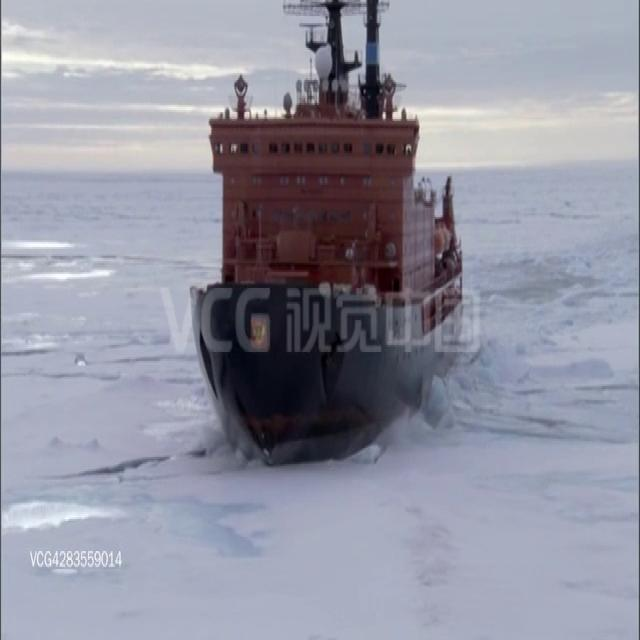cargoship: (182, 0, 462, 459)
